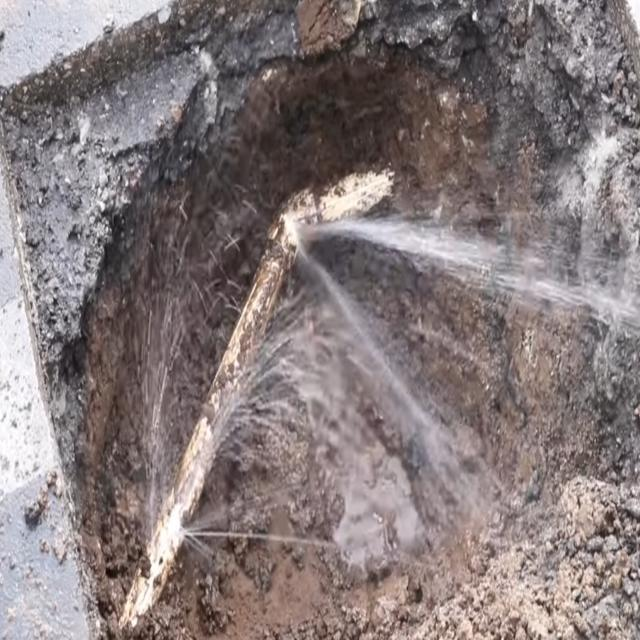pipe burst: (162, 215, 640, 568)
